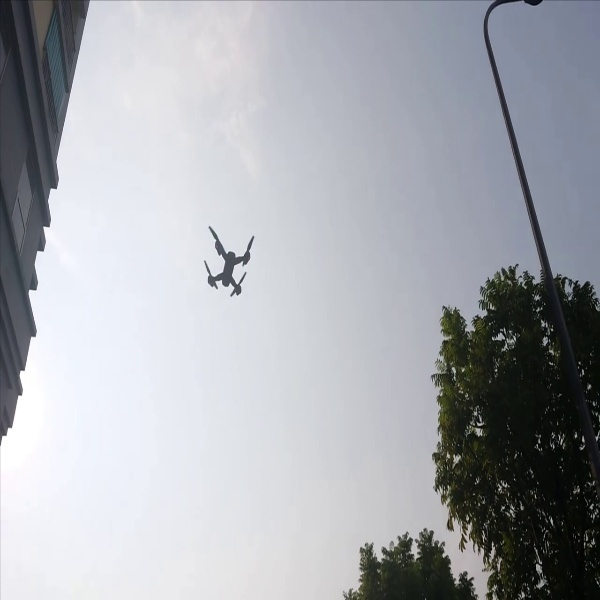drone: (200, 216, 265, 302)
